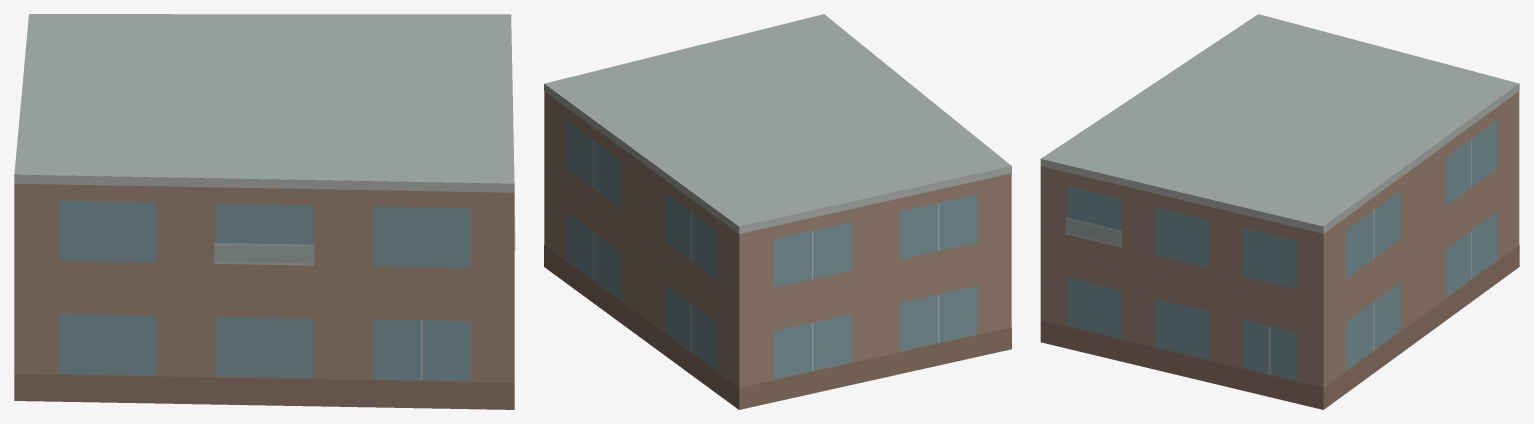
The model's file is survey-upis-32677395.glb.
3 renders of one model, left to right at view 1: azimuth 30°, elevation 25°; view 2: azimuth 150°, elevation 25°; view 3: azimuth 270°, elevation 25°, orthographic. The views are drawn at different scales.
Visible parts, largest first — view 1: survey-upis-32677395.tmp; view 2: survey-upis-32677395.tmp; view 3: survey-upis-32677395.tmp.
Part boxes in pixels (bbox=[...]): survey-upis-32677395.tmp: bbox=[14, 14, 515, 409]; survey-upis-32677395.tmp: bbox=[544, 14, 1011, 409]; survey-upis-32677395.tmp: bbox=[1040, 14, 1519, 409].
Bounding box in the file's own units: 15.17 × 6.1 × 14.45.
